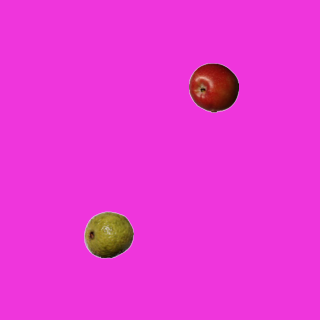Apple Braeburn: (188, 62, 238, 112)
Guava: (83, 209, 133, 259)
